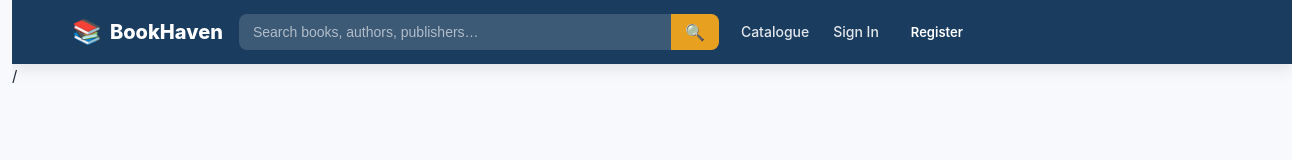
Navbar › search navigates to /catalogue?search=<encoded> and clears the box
Type " c++ & more " into the field with placeholder "Search books, authors, publishers…" at (455, 32), box [239,14,671,50]
Then press Enter
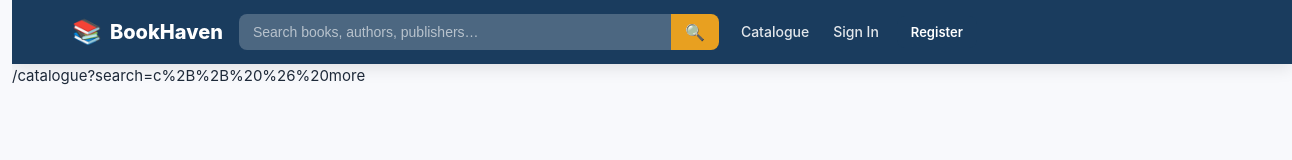
Result: the text with test id "loc" reads "/catalogue?search=c%2B%2B%20%26%20more" at [12,66,365,85]
